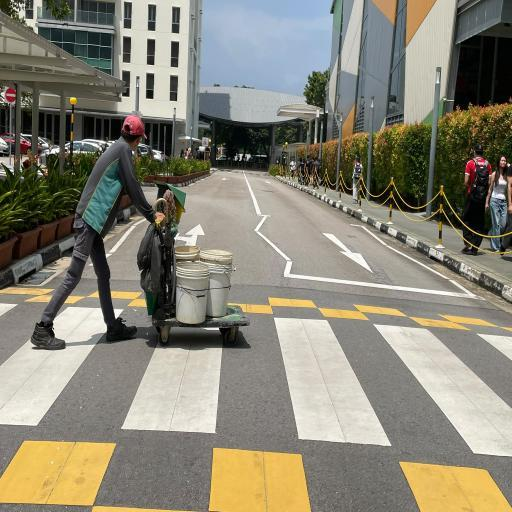person_right: (29, 101, 250, 352)
